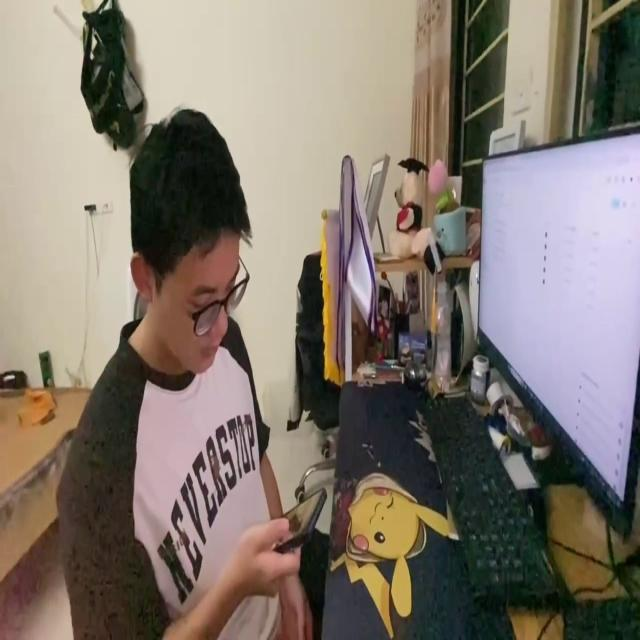laptop: (466, 125, 640, 560)
phone: (266, 487, 326, 550)
student: (46, 108, 316, 640)
